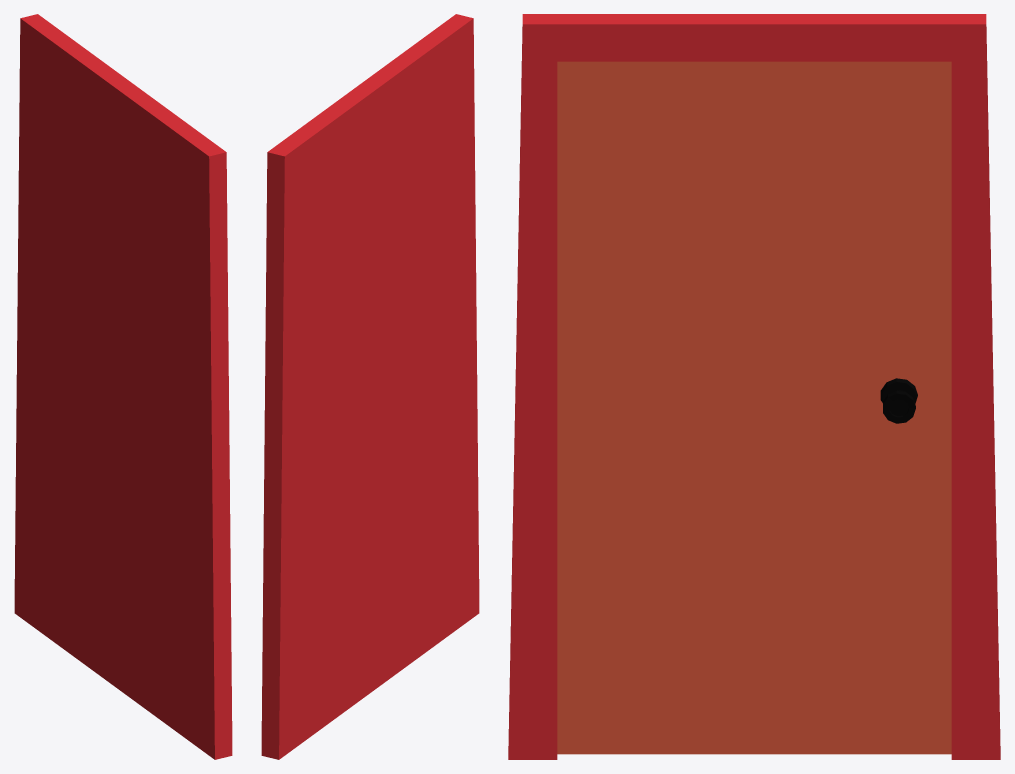
Rendered from Puertuka.fbx.
The picture shows the model from 3 angles, left to right: view 1: azimuth 30°, elevation 25°; view 2: azimuth 150°, elevation 25°; view 3: azimuth 270°, elevation 25°; orthographic projection. The views are drawn at different scales.
Parts seen in each view (by area): view 1: Puerta; view 2: Puerta; view 3: Puerta, Doorknob.
Part boxes in pixels (box(x1,y1,x2,y2)): Puerta: box(14, 14, 232, 759); Puerta: box(261, 14, 479, 759); Puerta: box(508, 14, 1000, 759); Doorknob: box(880, 378, 917, 423).
Bounding box in the file's own units: 18.43 × 347 × 210.
